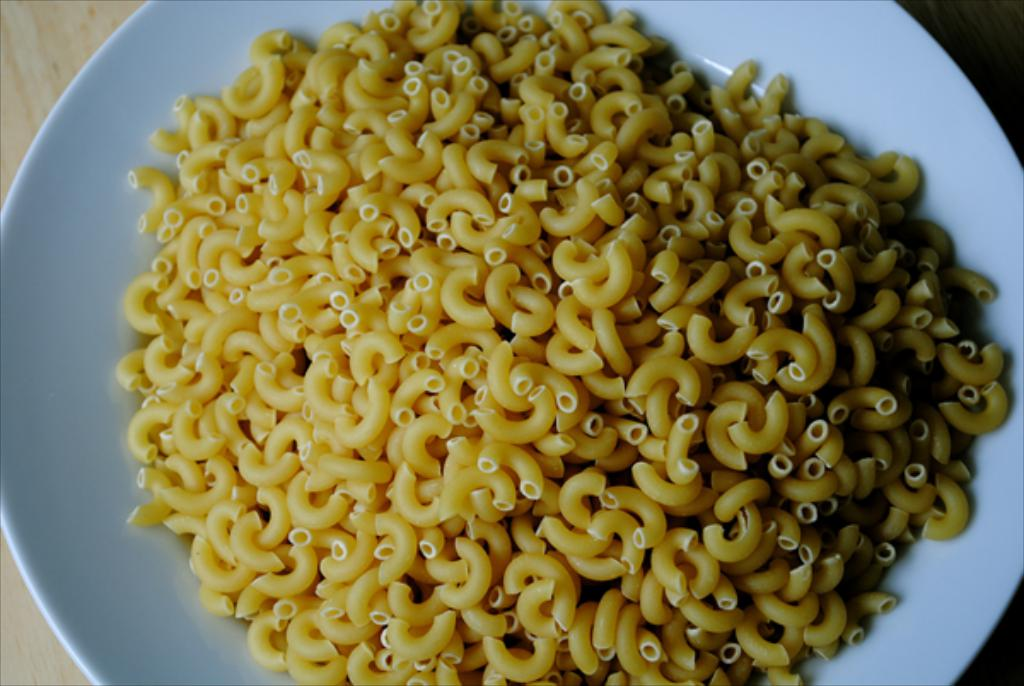pasta: (119, 0, 1007, 684)
